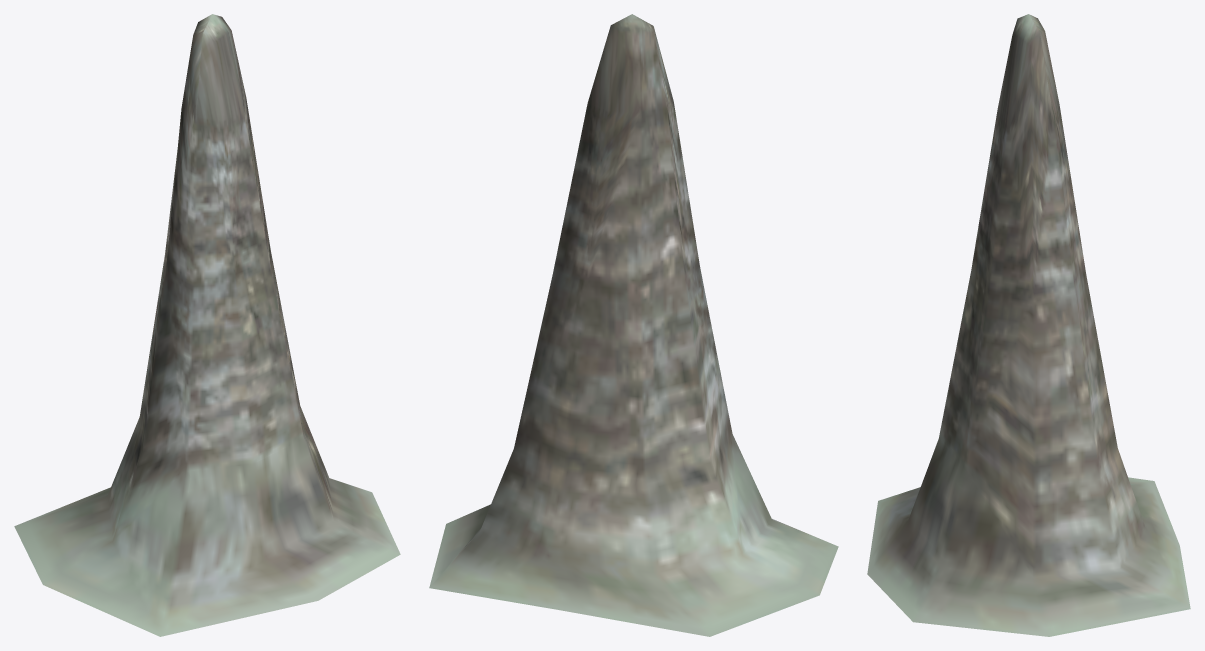
Rendered from TROLLHOLE02_PS-UPPERSTALAG04.fbx.
3 renders of one model, left to right at view 1: azimuth 30°, elevation 25°; view 2: azimuth 150°, elevation 25°; view 3: azimuth 270°, elevation 25°, orthographic. The views are drawn at different scales.
Parts seen in each view (by area): view 1: TROLLHOLE02_PS-UPPERSTALAG04; view 2: TROLLHOLE02_PS-UPPERSTALAG04; view 3: TROLLHOLE02_PS-UPPERSTALAG04.
Boxes of the visible parts, x1=… form: TROLLHOLE02_PS-UPPERSTALAG04: x1=14, y1=14, x2=400, y2=636; TROLLHOLE02_PS-UPPERSTALAG04: x1=429, y1=14, x2=838, y2=636; TROLLHOLE02_PS-UPPERSTALAG04: x1=867, y1=14, x2=1190, y2=636.
Size of the model in its own units: 16789 by 25005 by 13334.
1 material, 1 textured.
